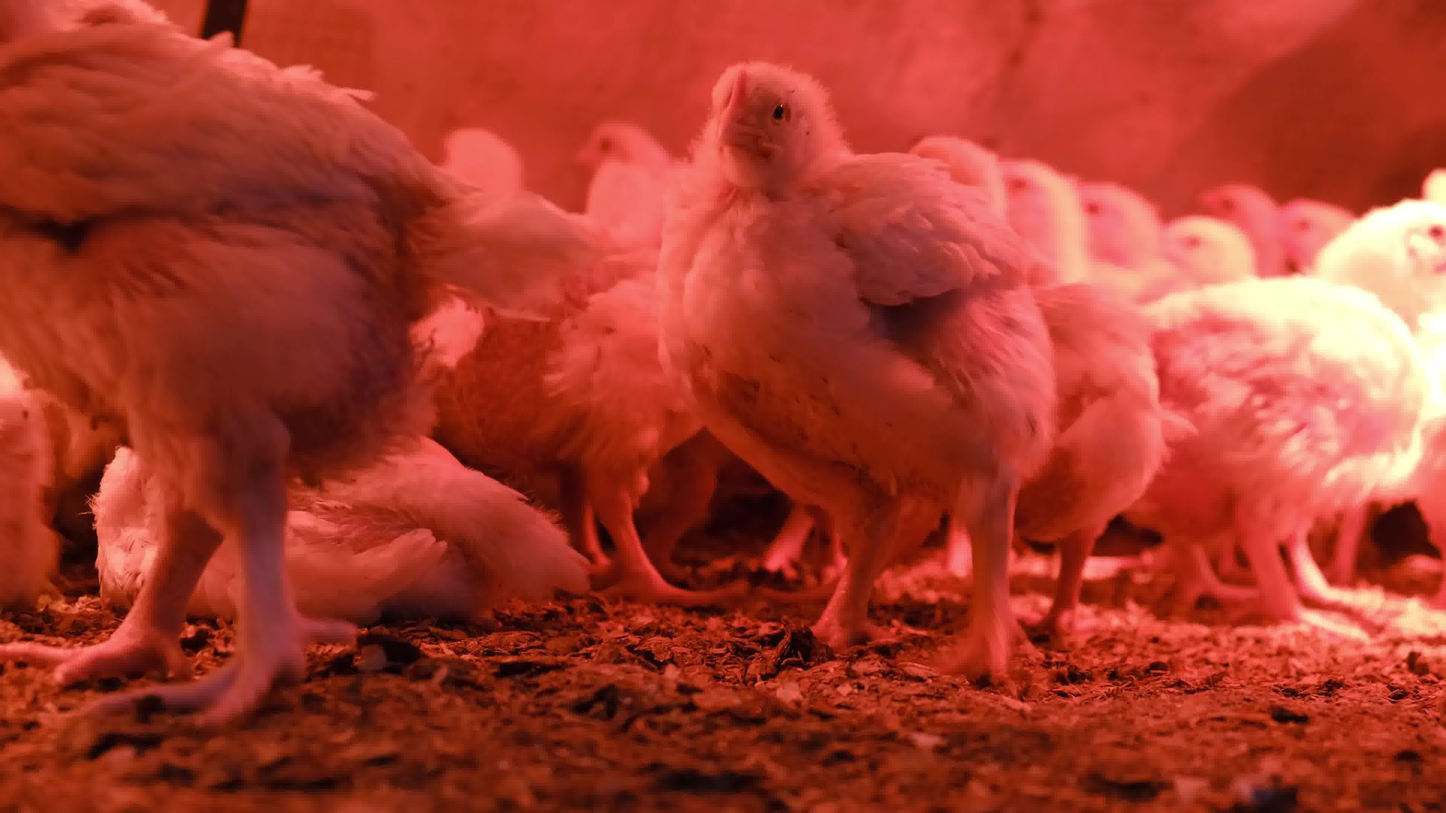AbNormal: (99, 393, 586, 625), (0, 353, 79, 610)
Normal: (0, 0, 612, 735), (657, 66, 1141, 687), (898, 126, 1207, 657), (1140, 194, 1446, 634), (421, 187, 734, 608), (996, 149, 1082, 294), (1075, 174, 1164, 304), (577, 121, 685, 225), (1203, 179, 1279, 294), (1283, 198, 1360, 270), (1164, 219, 1219, 289)
